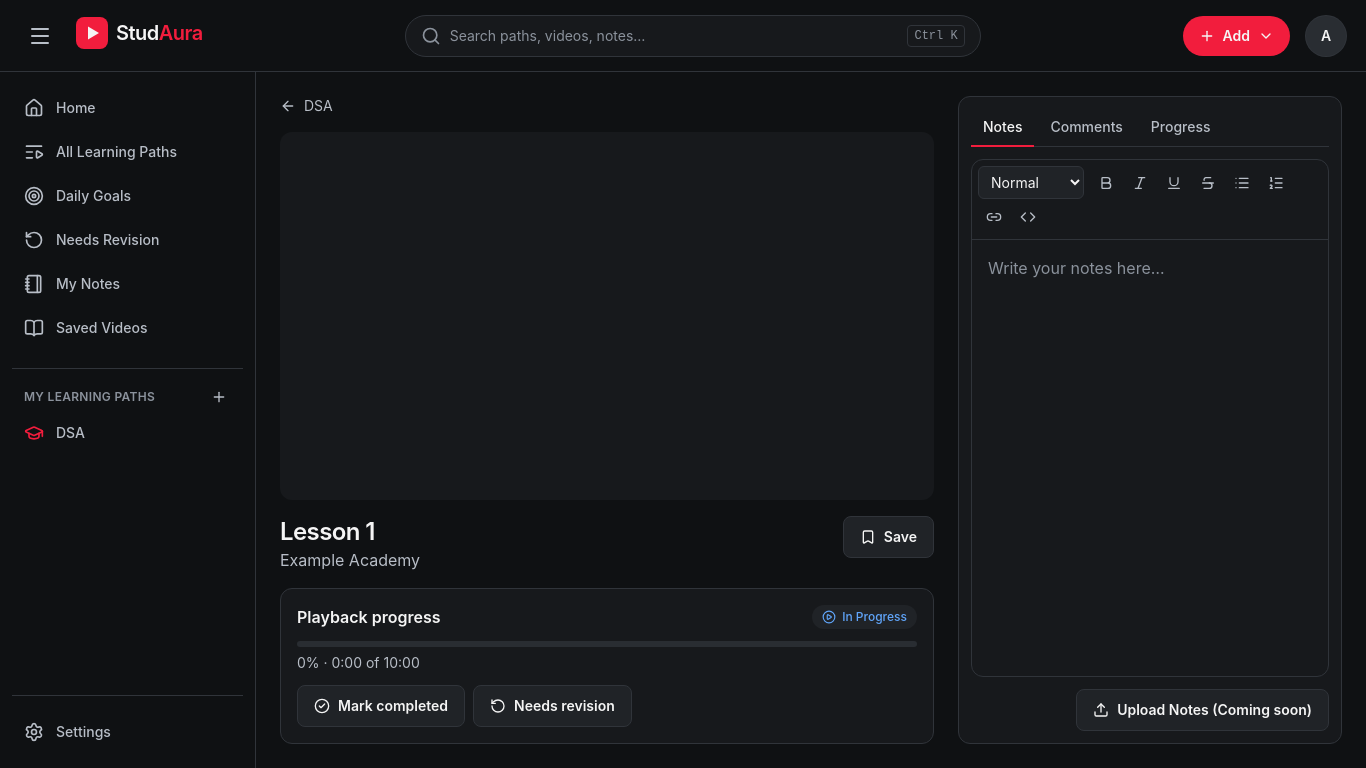
Test case: learning status controls › marks the video completed
Check: the heading "Lesson 1" is shown, box [280,517,375,546]
Click the button "Mark completed": (381, 706) [297,685,465,727]
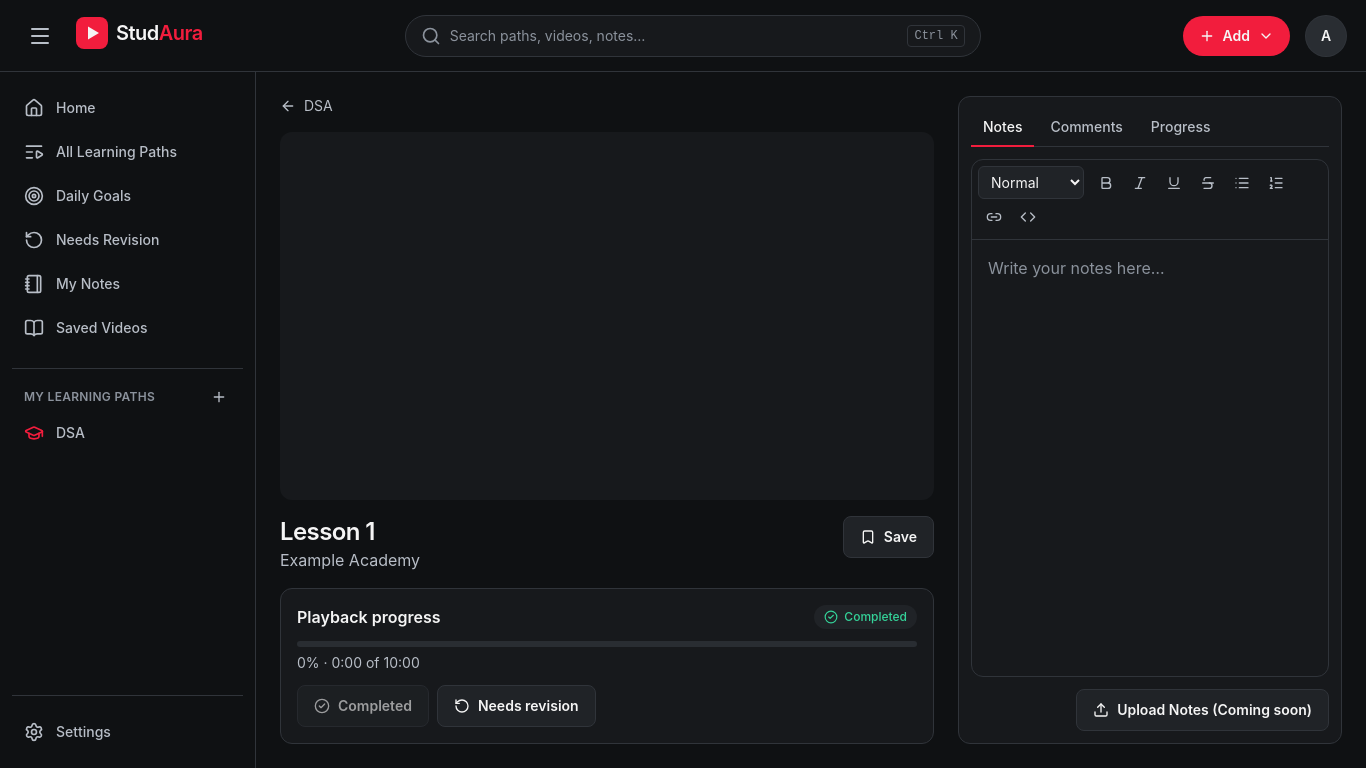
Check: the button "Completed" is disabled, box [297,685,429,727]
